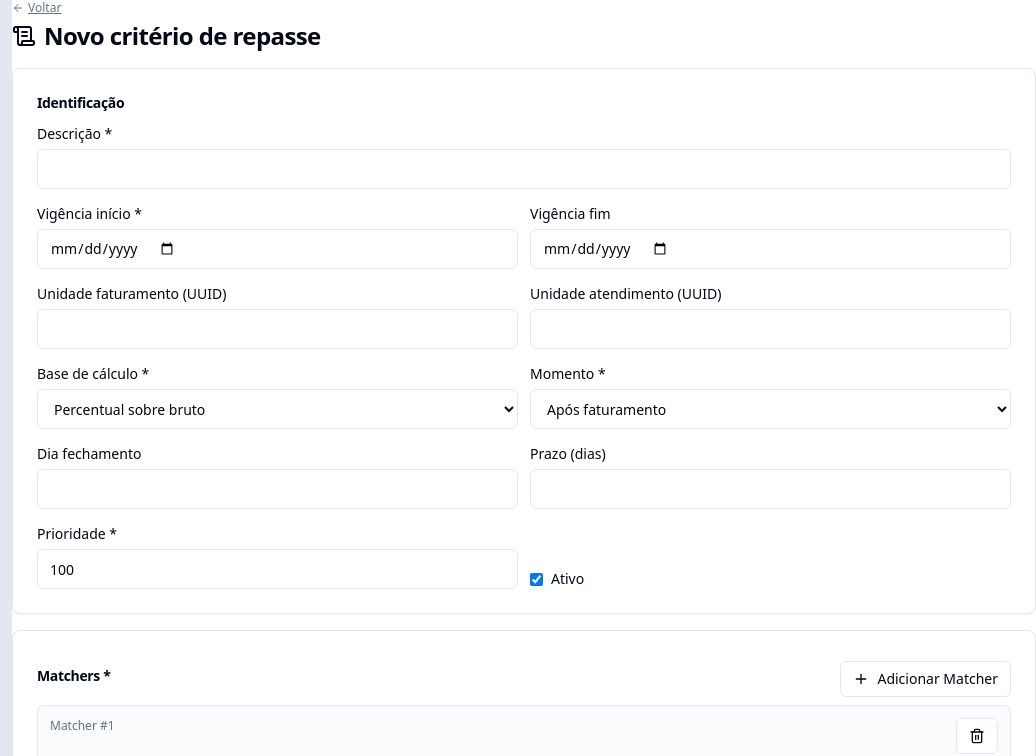
it: <CriterioFormPage mode="create" /> › permite adicionar um novo matcher via botão
The width and height of the screenshot is (1036, 756).
Click the button "Adicionar Matcher" at (926, 679), box [840,661,1011,697]
(page scrolled)
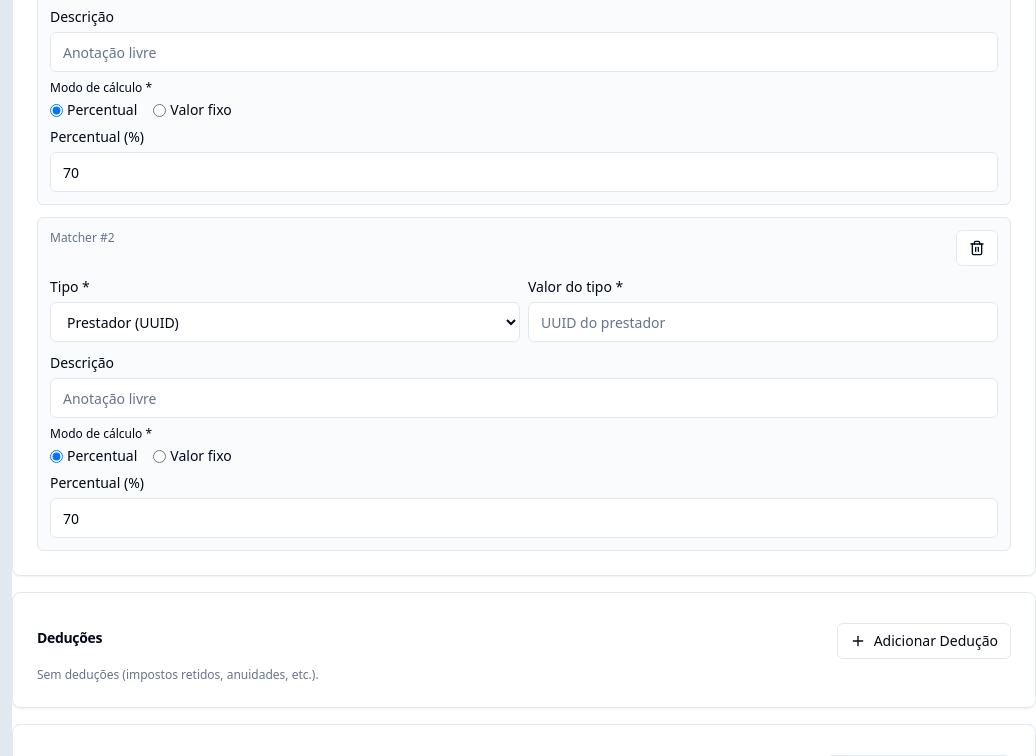
Check: the element with test id "matcher-row-1" is shown, box [37,217,1011,551]
